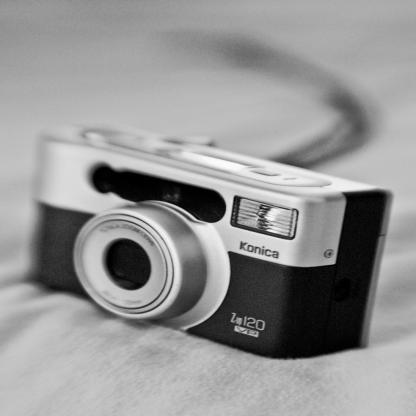Camera: (51, 117, 403, 367)
